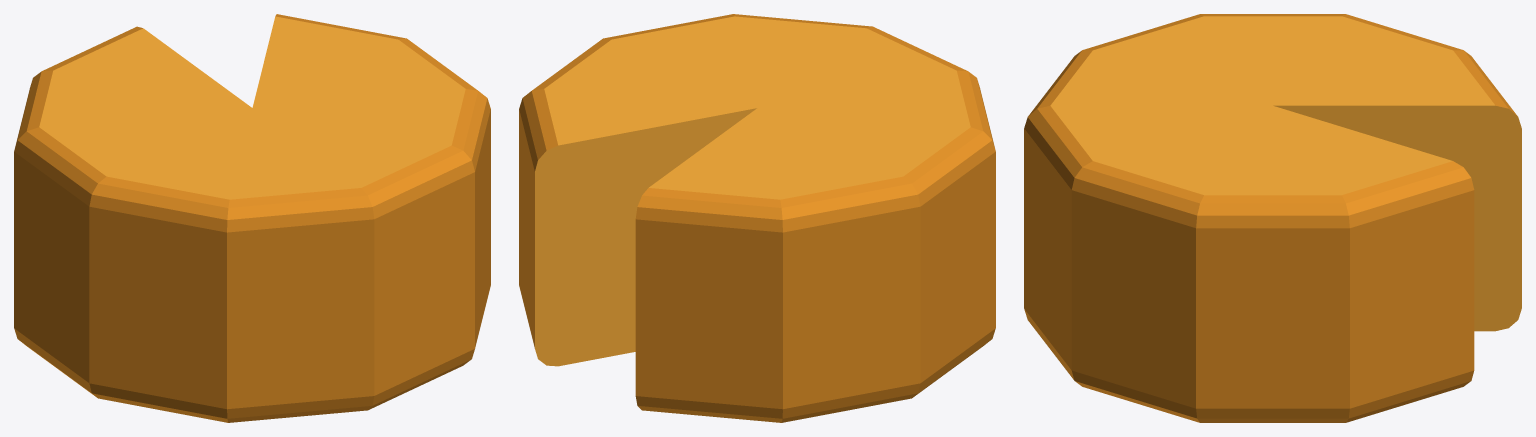
The model's file is Cheese.fbx.
3 renders of one model, left to right at view 1: azimuth 30°, elevation 25°; view 2: azimuth 150°, elevation 25°; view 3: azimuth 270°, elevation 25°, orthographic. The views are drawn at different scales.
Parts seen in each view (by area): view 1: Cheese; view 2: Cheese; view 3: Cheese.
Boxes of the visible parts, box(x1,y1,x2,y2) form: Cheese: box(14, 14, 490, 422); Cheese: box(519, 14, 995, 422); Cheese: box(1024, 14, 1521, 422).
Bounding box in the file's own units: 0.3804 × 0.4 × 0.2.
